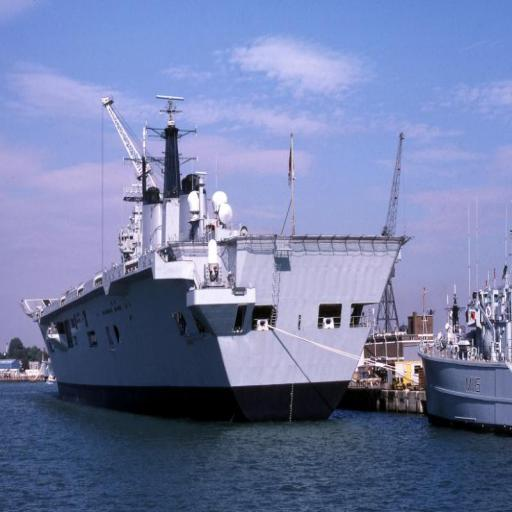Portanaves: (17, 84, 414, 429)
